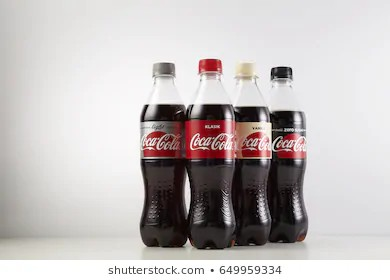coke-bottle-700ml: (188, 46, 235, 249)
coke-diet/zero-bottle-700ml: (140, 60, 190, 249), (270, 62, 309, 250), (237, 62, 271, 245)
